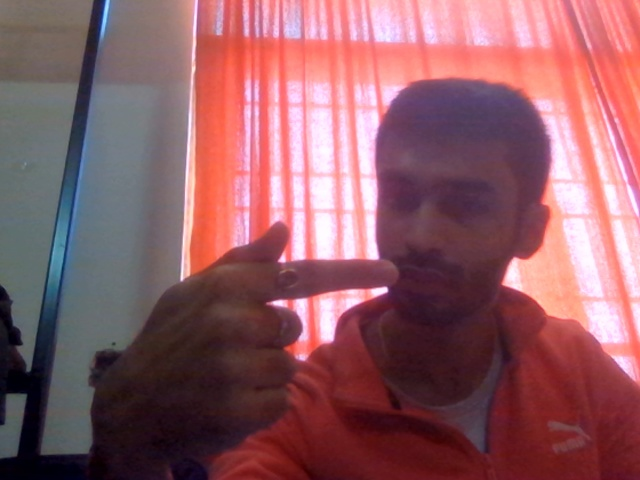G: (77, 225, 417, 477)
